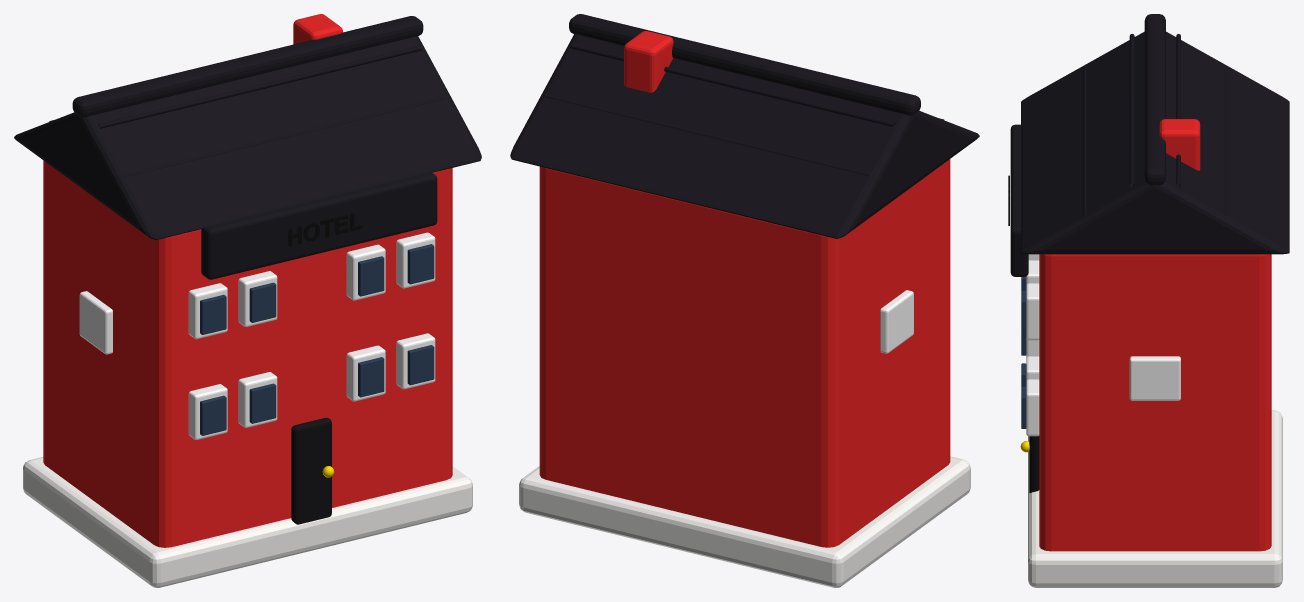
Rendered from hotel.glb.
3 views of the same model, side by side, from view 1: azimuth 30°, elevation 25°; view 2: azimuth 150°, elevation 25°; view 3: azimuth 270°, elevation 25° (orthographic). The views are drawn at different scales.
Parts seen in each view (by area): view 1: MBR_ASSET_hotel; view 2: MBR_ASSET_hotel; view 3: MBR_ASSET_hotel.
Part boxes in pixels (<box>): MBR_ASSET_hotel: <box>14,14,481,587</box>; MBR_ASSET_hotel: <box>510,14,979,587</box>; MBR_ASSET_hotel: <box>1008,14,1289,587</box>.
Bounding box in the file's own units: 0.465 × 0.5815 × 0.3453.
